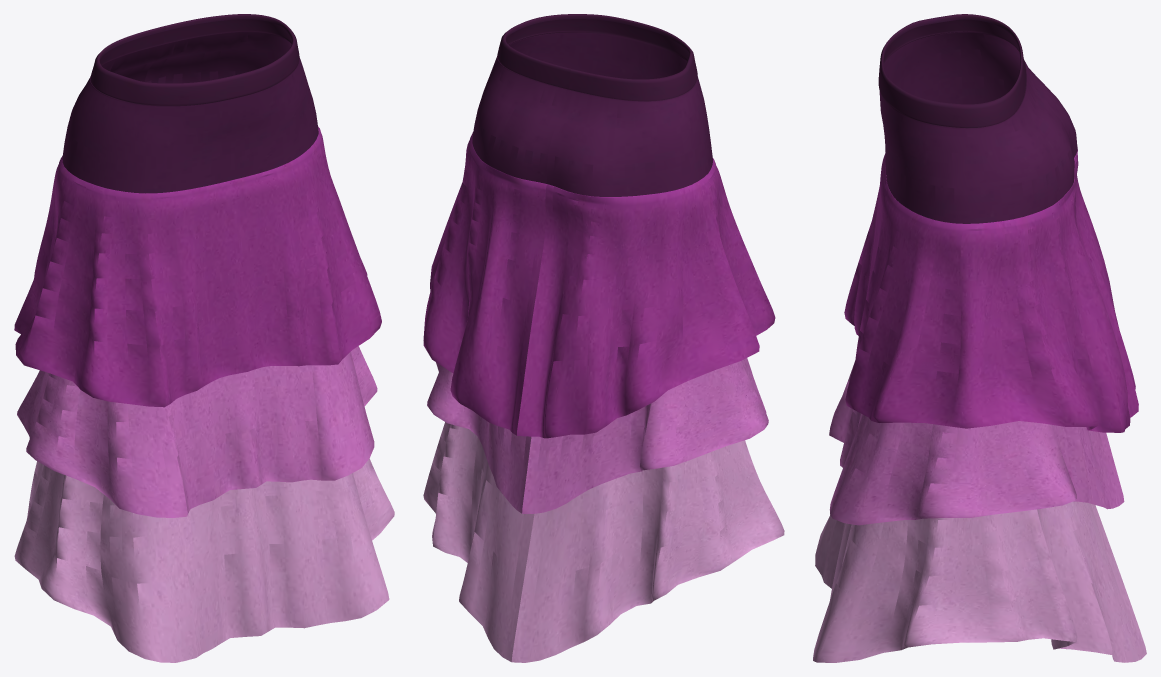
File: toigo-tiered-skirt.glb
The picture shows the model from 3 angles, left to right: view 1: azimuth 30°, elevation 25°; view 2: azimuth 150°, elevation 25°; view 3: azimuth 270°, elevation 25°; orthographic projection. The views are drawn at different scales.
Parts seen in each view (by area): view 1: tiered skirt; view 2: tiered skirt; view 3: tiered skirt.
Part boxes in pixels (bbox=[...]): tiered skirt: bbox=[14, 14, 394, 662]; tiered skirt: bbox=[423, 14, 784, 662]; tiered skirt: bbox=[813, 14, 1146, 662].
Bounding box in the file's own units: 51.16 × 82.52 × 42.03.
1 material, 1 textured.
